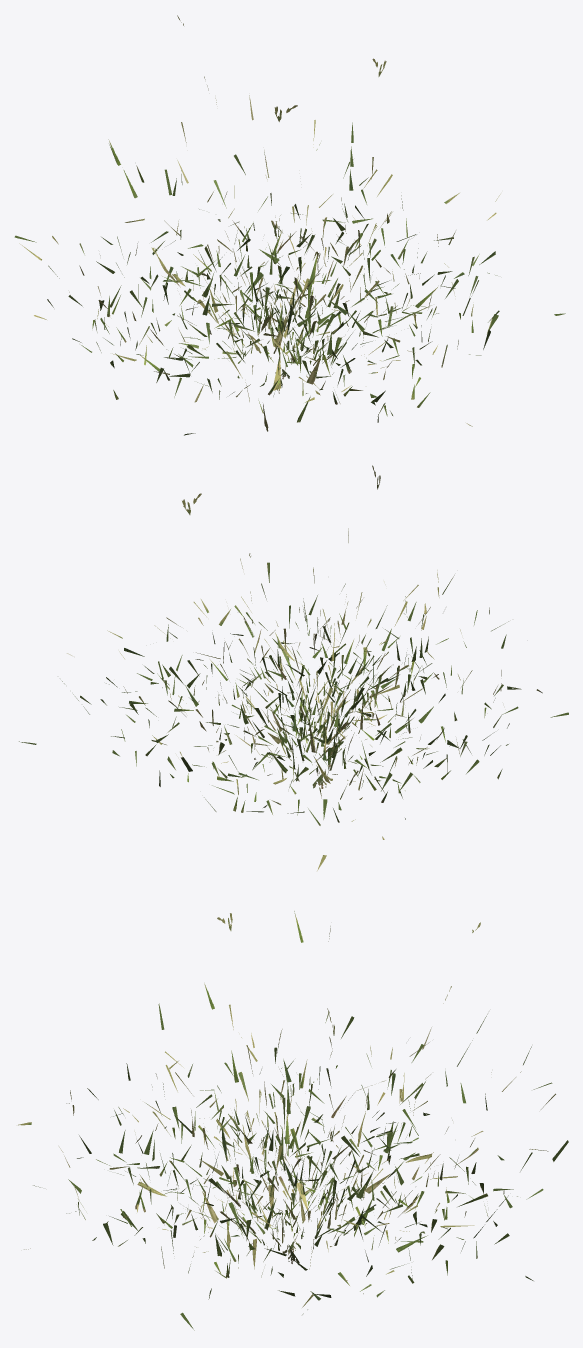
Rendered from wild_grass_vlkhcbxia.gltf.
3 renders of one model, top to bottom at view 1: azimuth 30°, elevation 25°; view 2: azimuth 150°, elevation 25°; view 3: azimuth 270°, elevation 25°, orthographic. The views are drawn at different scales.
Visible parts, largest first — view 1: SM_vlkhcbxia_VarB, SM_vlkhcbxia_VarC, SM_vlkhcbxia_VarA, SM_vlkhcbxia_VarD, SM_vlkhcbxia_VarF, SM_vlkhcbxia_VarE, SM_vlkhcbxia_VarG; view 2: SM_vlkhcbxia_VarB, SM_vlkhcbxia_VarC, SM_vlkhcbxia_VarA, SM_vlkhcbxia_VarD, SM_vlkhcbxia_VarF, SM_vlkhcbxia_VarE, SM_vlkhcbxia_VarG; view 3: SM_vlkhcbxia_VarB, SM_vlkhcbxia_VarC, SM_vlkhcbxia_VarA, SM_vlkhcbxia_VarD, SM_vlkhcbxia_VarE, SM_vlkhcbxia_VarG, SM_vlkhcbxia_VarF.
Part boxes in pixels (box(x1,y1,x2,y2)): SM_vlkhcbxia_VarB: box(14, 122, 565, 426); SM_vlkhcbxia_VarC: box(34, 159, 481, 435); SM_vlkhcbxia_VarA: box(19, 15, 437, 431); SM_vlkhcbxia_VarD: box(136, 95, 392, 365); SM_vlkhcbxia_VarF: box(180, 196, 429, 373); SM_vlkhcbxia_VarE: box(164, 205, 391, 355); SM_vlkhcbxia_VarG: box(204, 244, 377, 361); SM_vlkhcbxia_VarB: box(19, 562, 542, 825); SM_vlkhcbxia_VarC: box(106, 583, 568, 839); SM_vlkhcbxia_VarA: box(166, 465, 508, 870); SM_vlkhcbxia_VarD: box(154, 558, 454, 784); SM_vlkhcbxia_VarF: box(231, 622, 406, 781); SM_vlkhcbxia_VarE: box(168, 596, 408, 775); SM_vlkhcbxia_VarG: box(238, 655, 399, 757); SM_vlkhcbxia_VarB: box(18, 1003, 568, 1330); SM_vlkhcbxia_VarC: box(33, 1044, 513, 1297); SM_vlkhcbxia_VarA: box(137, 913, 521, 1269); SM_vlkhcbxia_VarD: box(165, 911, 555, 1240); SM_vlkhcbxia_VarE: box(199, 1069, 478, 1246); SM_vlkhcbxia_VarG: box(219, 1109, 347, 1248); SM_vlkhcbxia_VarF: box(117, 1122, 399, 1268).
Size of what is drawn, in the model's own units: 0.4767 by 0.3278 by 0.4709.
Materials: 1 (1 with a texture image).
